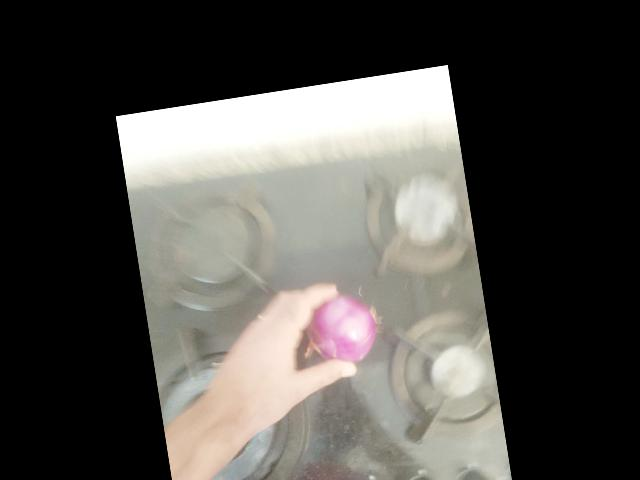onion: (340, 186, 409, 255)
